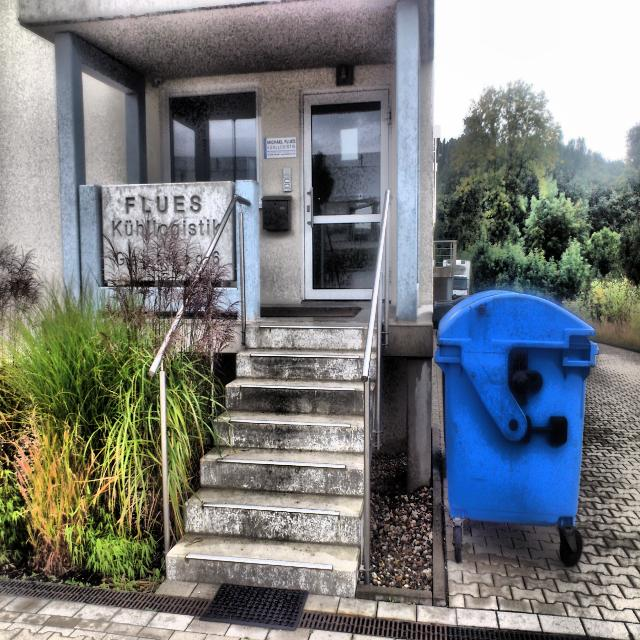escada: (158, 326, 374, 598)
